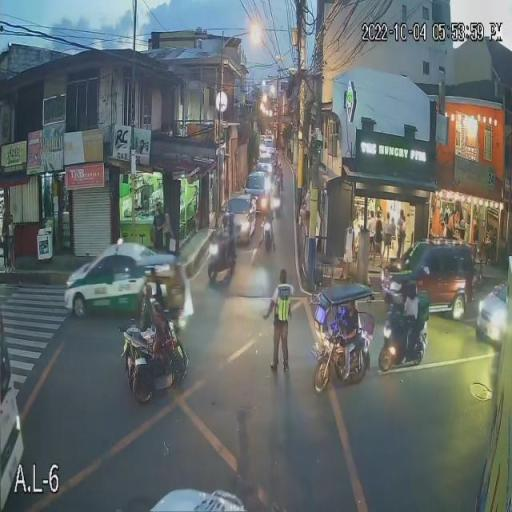helmet: (406, 281, 420, 299), (226, 214, 238, 230), (220, 213, 230, 227)
motorcycle: (310, 335, 376, 394), (377, 311, 429, 373), (207, 236, 235, 286), (262, 219, 276, 252)
rider: (394, 280, 424, 350), (217, 212, 231, 263), (226, 214, 240, 264), (260, 198, 275, 228)
